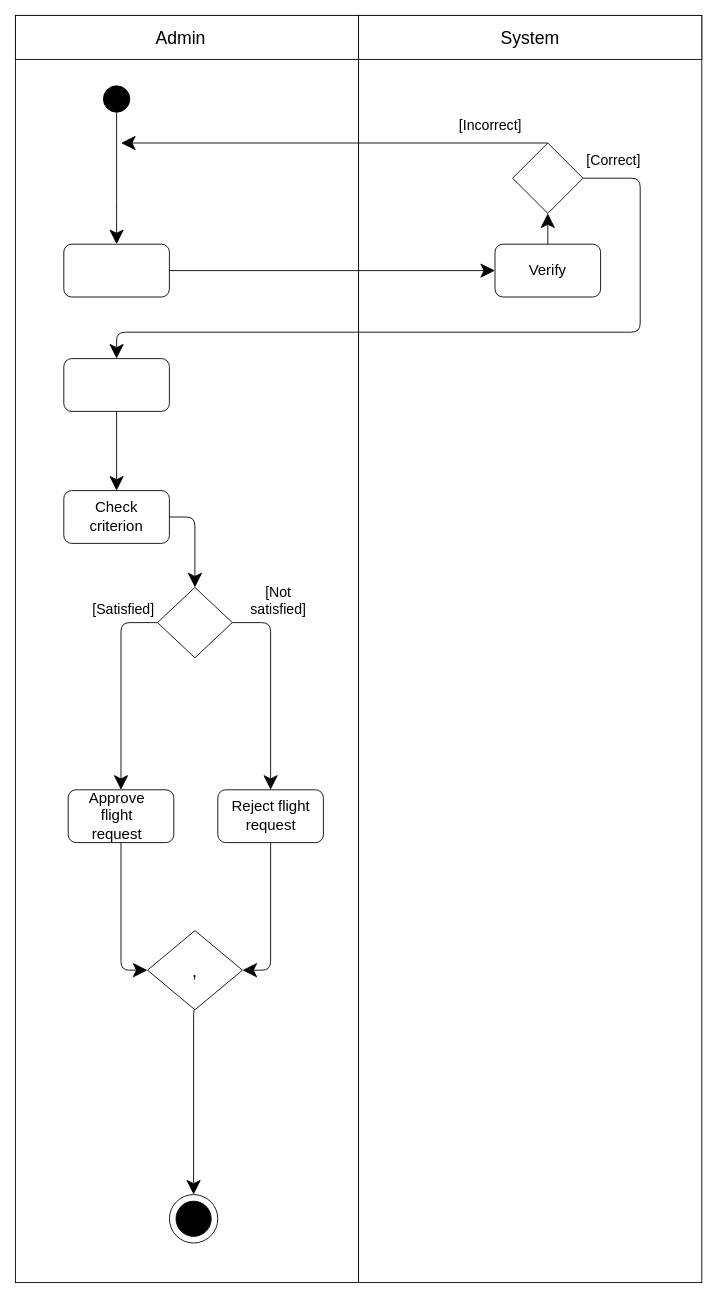
Image size: 717x1298. Some labels were removed from this diagram. Each missing label, with the box of its shape:
Login: (63, 243, 169, 297)
View flight request: (63, 358, 169, 411)
